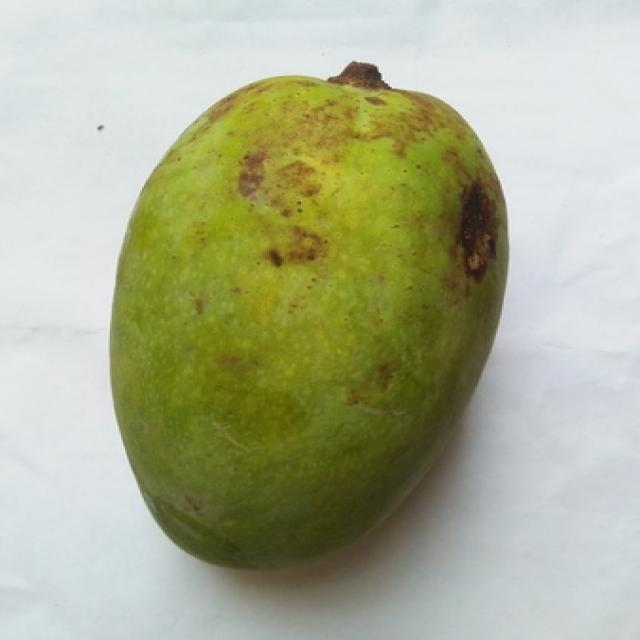Mango: (110, 63, 506, 568)
